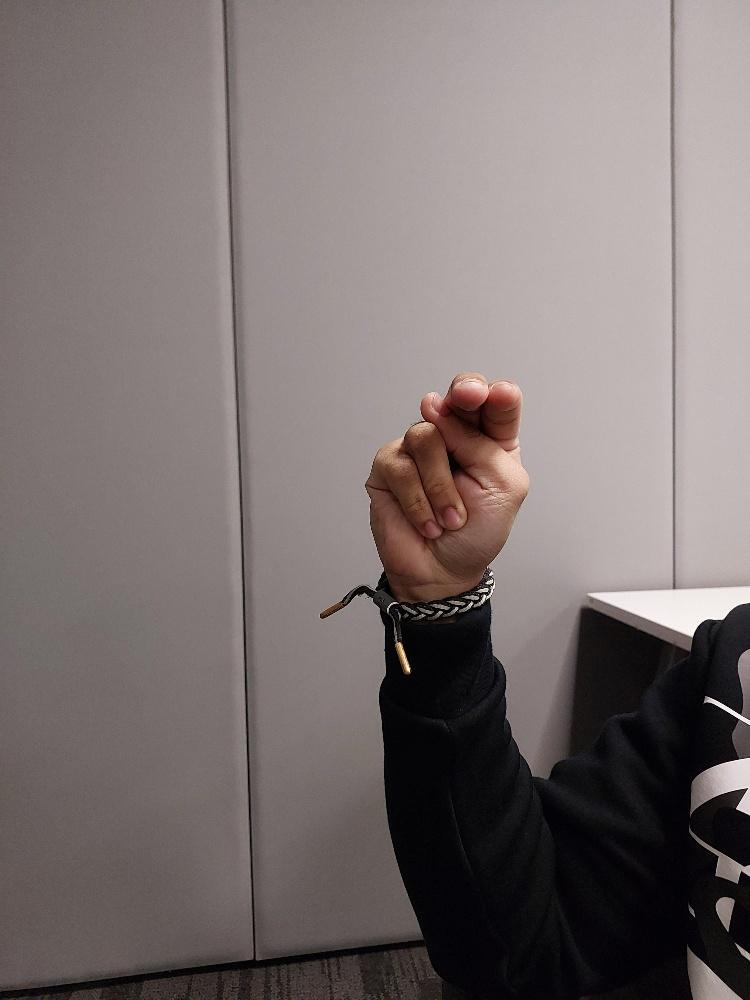n: (363, 368, 531, 588)
